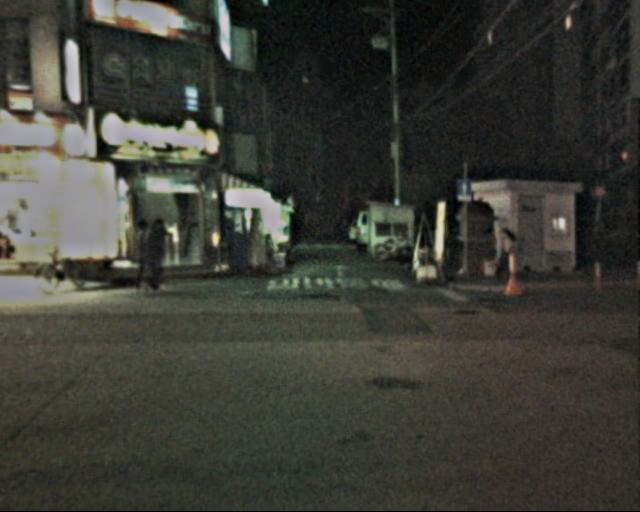person: (137, 219, 172, 298), (486, 221, 519, 291), (327, 215, 347, 243)
